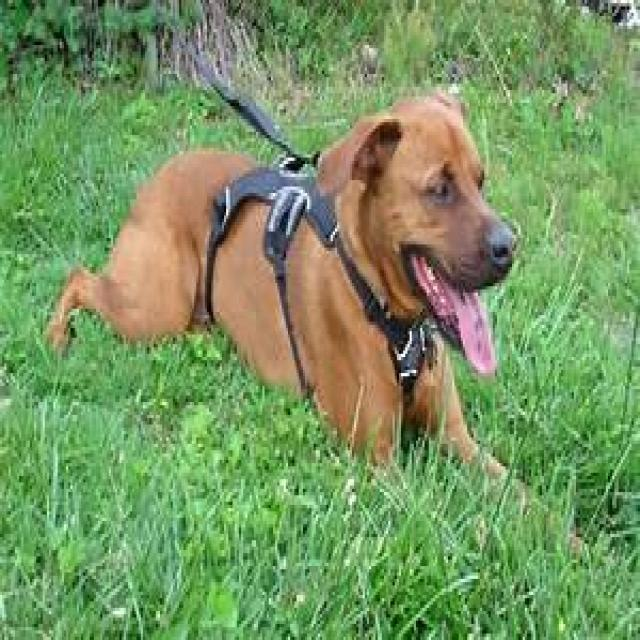dog: (45, 93, 521, 479)
